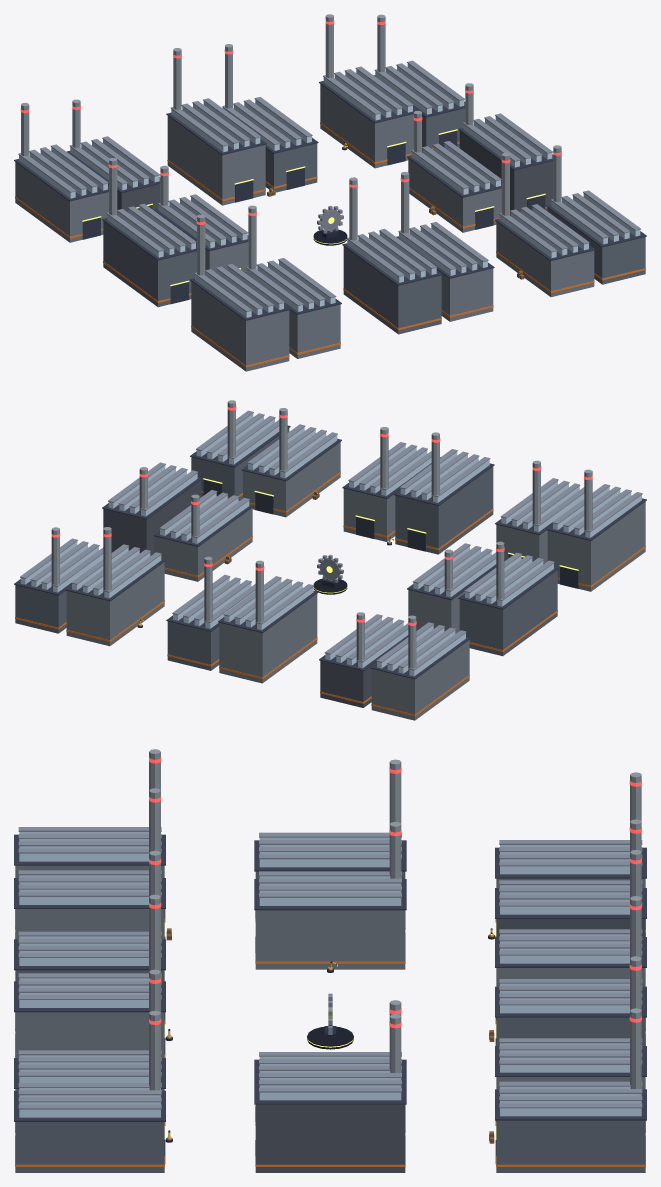
3 renders of one model, top to bottom at view 1: azimuth 30°, elevation 25°; view 2: azimuth 150°, elevation 25°; view 3: azimuth 270°, elevation 25°, orthographic. The views are drawn at different scales.
Visible parts, largest first — view 1: district_city_taller.lod1; view 2: district_city_taller.lod1; view 3: district_city_taller.lod1.
Part boxes in pixels (left/top/right/bottom): district_city_taller.lod1: left=14, top=14, right=646, bottom=371; district_city_taller.lod1: left=14, top=400, right=646, bottom=720; district_city_taller.lod1: left=14, top=749, right=646, bottom=1172.
Bounding box in the file's own units: 97.4 × 27.15 × 97.4.
